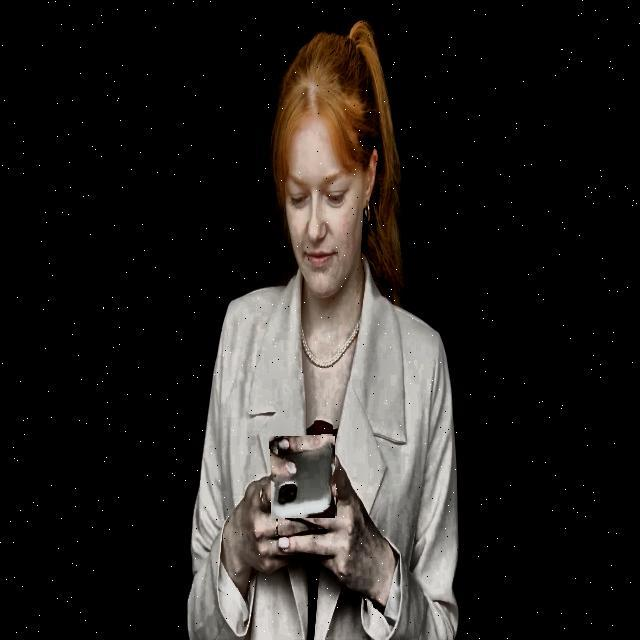Phone: (270, 436, 336, 518)
